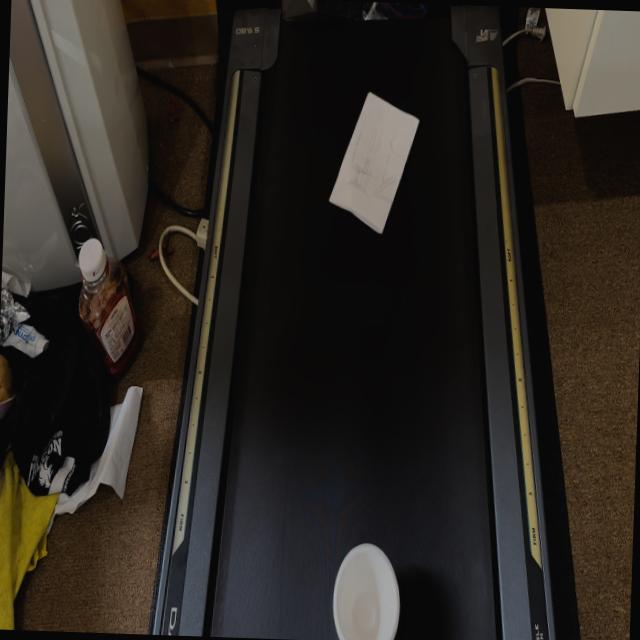Recycle: (326, 86, 421, 238)
